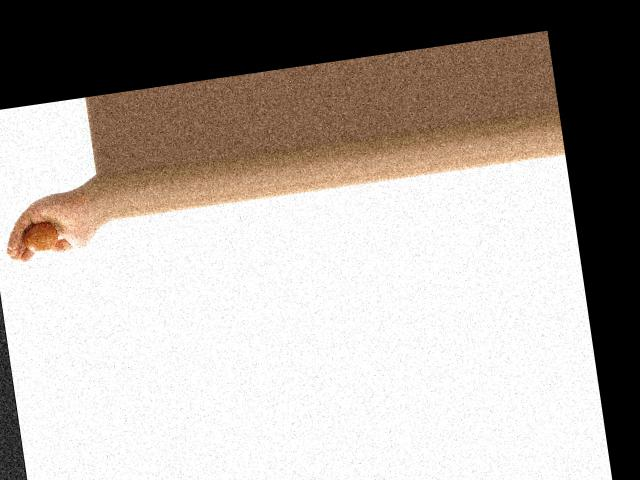egg: (19, 221, 59, 254)
